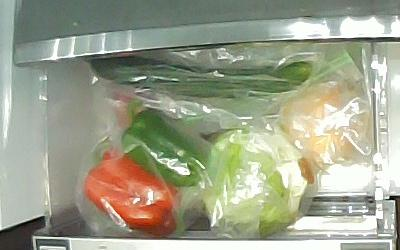cucumber_vinyl: (83, 56, 311, 96)
lettuce_vinyl: (204, 127, 314, 235)
paprika_vinyl: (82, 148, 178, 235), (123, 99, 211, 188)
peach_vinyl: (279, 88, 353, 166)
